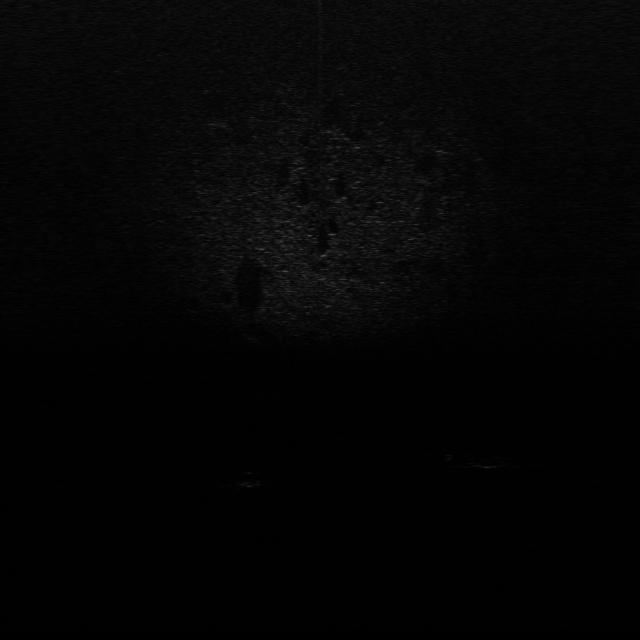ball: (233, 466, 267, 492)
human body: (436, 448, 530, 472)
